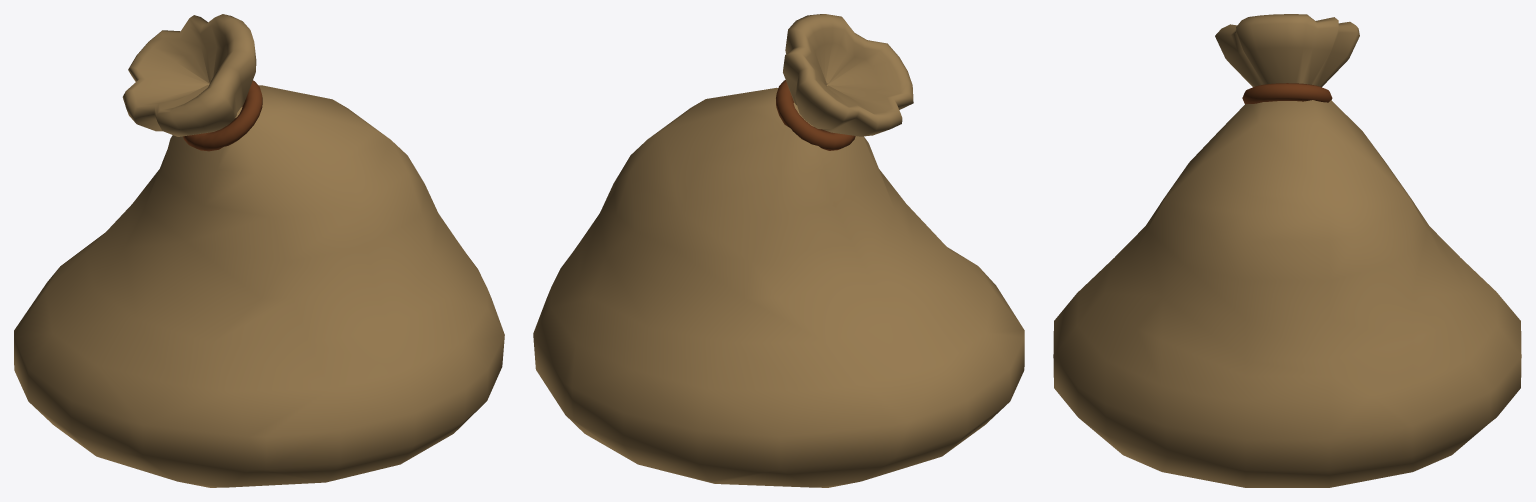
File: sackBox.fbx
3 views of the same model, side by side, from view 1: azimuth 30°, elevation 25°; view 2: azimuth 150°, elevation 25°; view 3: azimuth 270°, elevation 25° (orthographic). The views are drawn at different scales.
Visible parts, largest first — view 1: Burlap Sack; view 2: Burlap Sack; view 3: Burlap Sack.
Boxes of the visible parts, x1,y1,x2,y2 form: Burlap Sack: [14, 14, 504, 487]; Burlap Sack: [533, 14, 1024, 487]; Burlap Sack: [1053, 14, 1521, 487].
Size of the model in its own units: 23.55 by 23.34 by 21.54.
